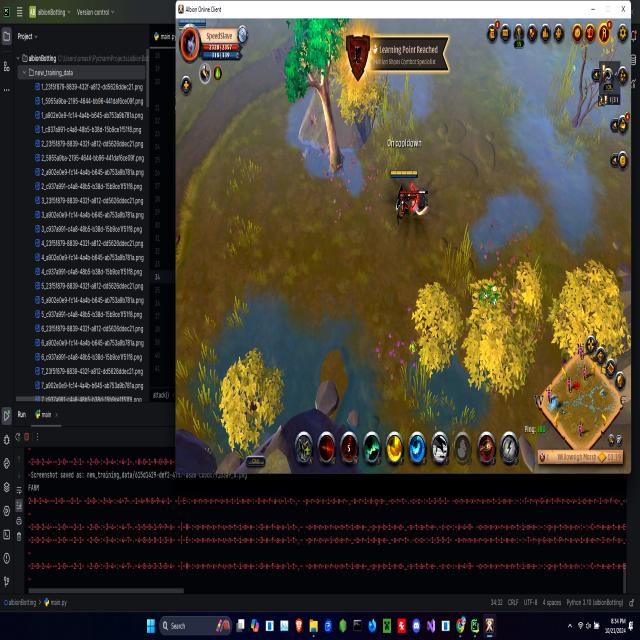hide: (478, 279, 500, 320)
ore: (397, 179, 432, 221)
red: (389, 167, 418, 226)
wisp caged: (284, 18, 358, 179)
